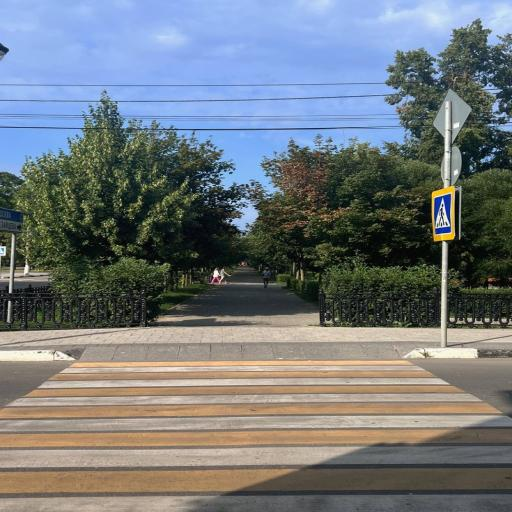chair: (0, 360, 512, 512)
elevator: (420, 84, 475, 348)
glass_wall: (0, 270, 512, 360)
